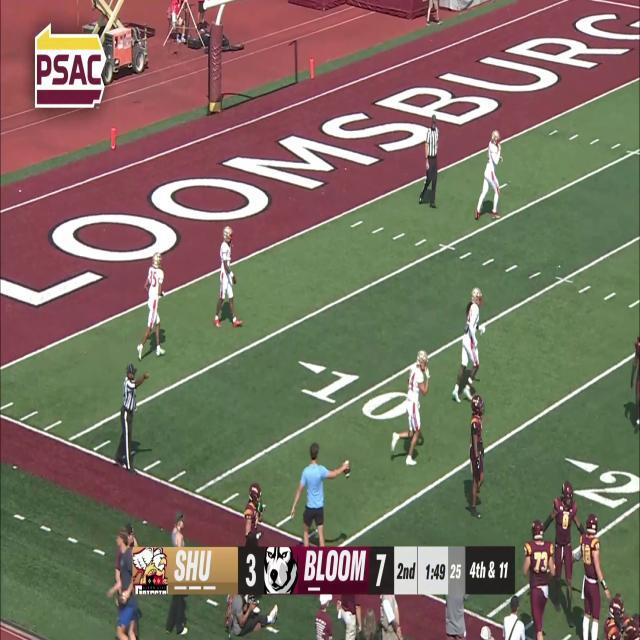football: (342, 458, 352, 477)
